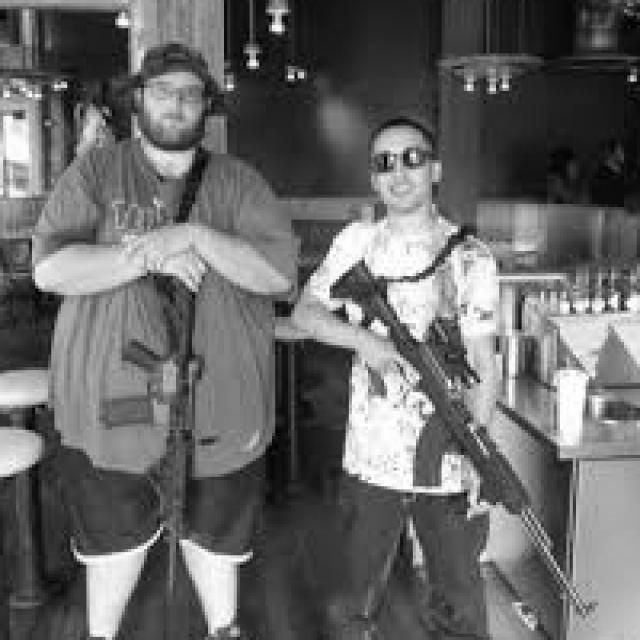gun: (321, 234, 605, 634), (104, 196, 226, 597)
